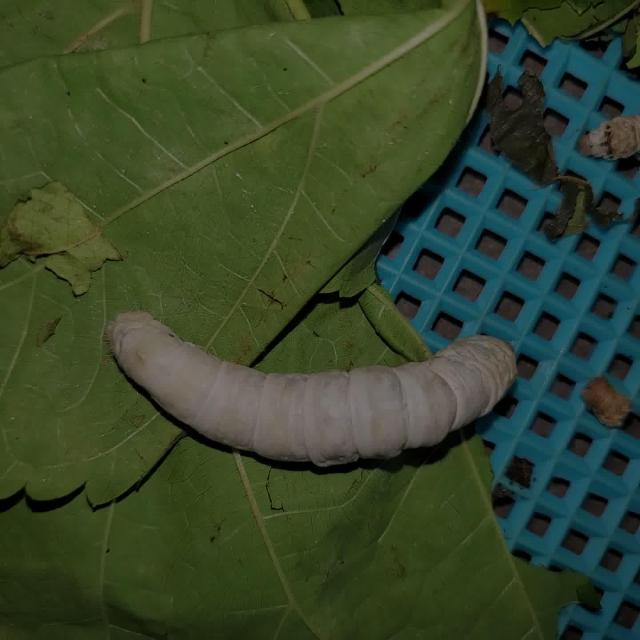Grasserie: (94, 264, 561, 499)
